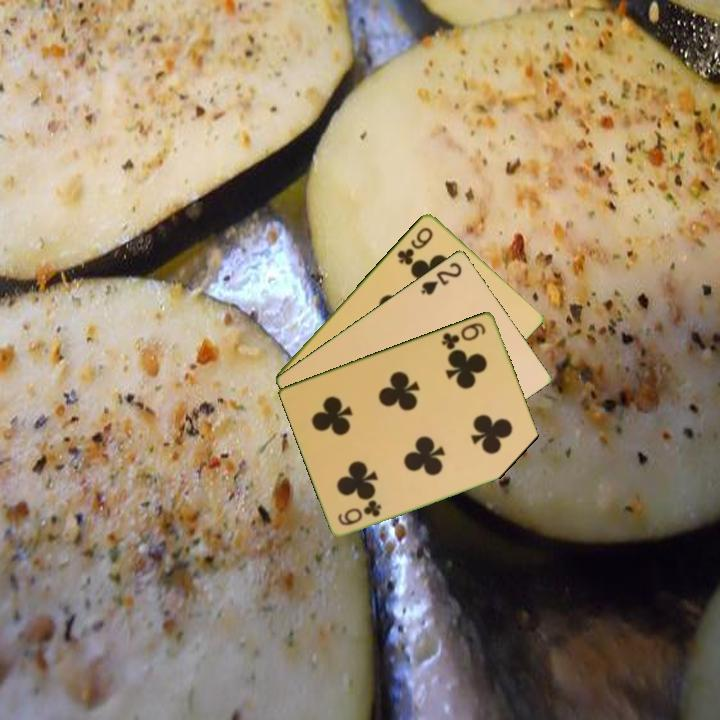2s: (417, 258, 465, 298)
6c: (438, 319, 489, 352), (334, 497, 385, 528)
9c: (393, 223, 436, 268)
